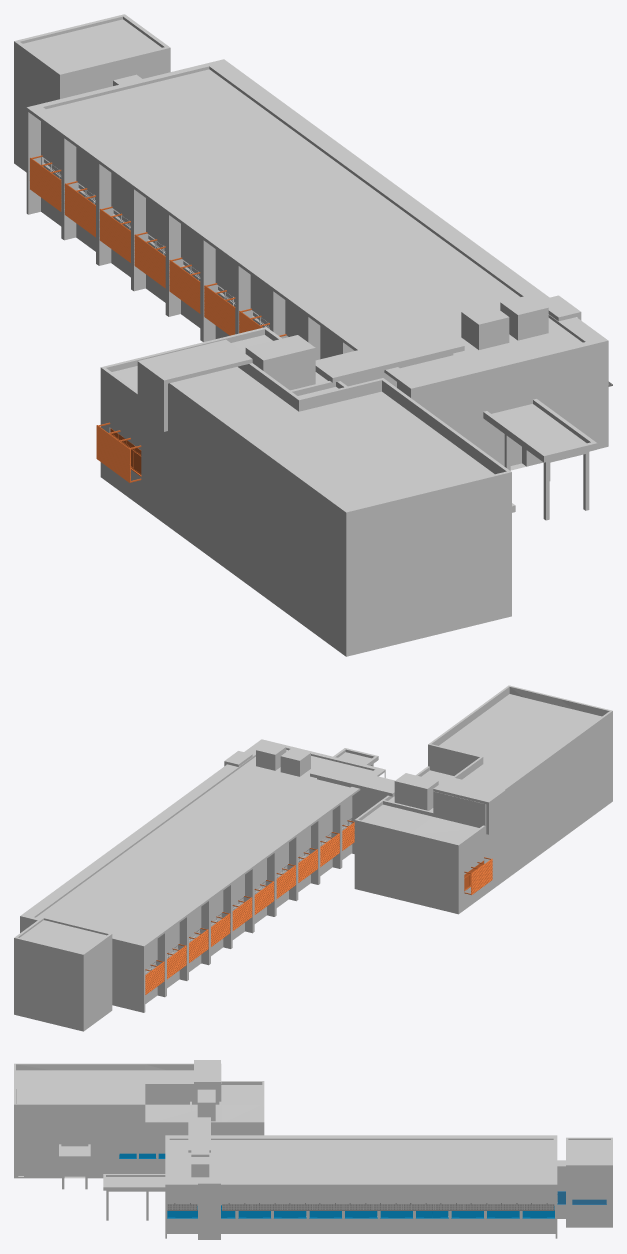
File: medialab.glb
3 renders of one model, top to bottom at view 1: azimuth 30°, elevation 25°; view 2: azimuth 150°, elevation 25°; view 3: azimuth 270°, elevation 25°, orthographic. The views are drawn at different scales.
Parts seen in each view (by area): view 1: predio03_Cube.004, Cube_Cube.011, Cube.001, windows.000_Plane.000; view 2: predio03_Cube.004, Cube_Cube.011, windows.000_Plane.000, Cube.001; view 3: predio03_Cube.004, windows.010_Plane.012, Cube.002_Cube.007.
Boxes of the visible parts, x1,y1,x2,y2 form: predio03_Cube.004: (14, 14, 608, 656); Cube_Cube.011: (29, 155, 286, 336); Cube.001: (96, 422, 141, 482); windows.000_Plane.000: (43, 157, 287, 336); predio03_Cube.004: (14, 685, 612, 1031); Cube_Cube.011: (145, 820, 354, 994); windows.000_Plane.000: (145, 819, 351, 974); Cube.001: (464, 857, 492, 894); predio03_Cube.004: (14, 1060, 612, 1239); windows.010_Plane.012: (167, 1205, 554, 1218); Cube.002_Cube.007: (167, 1203, 554, 1210).
Size of the model in its own units: 16.12 by 5.35 by 38.16.
